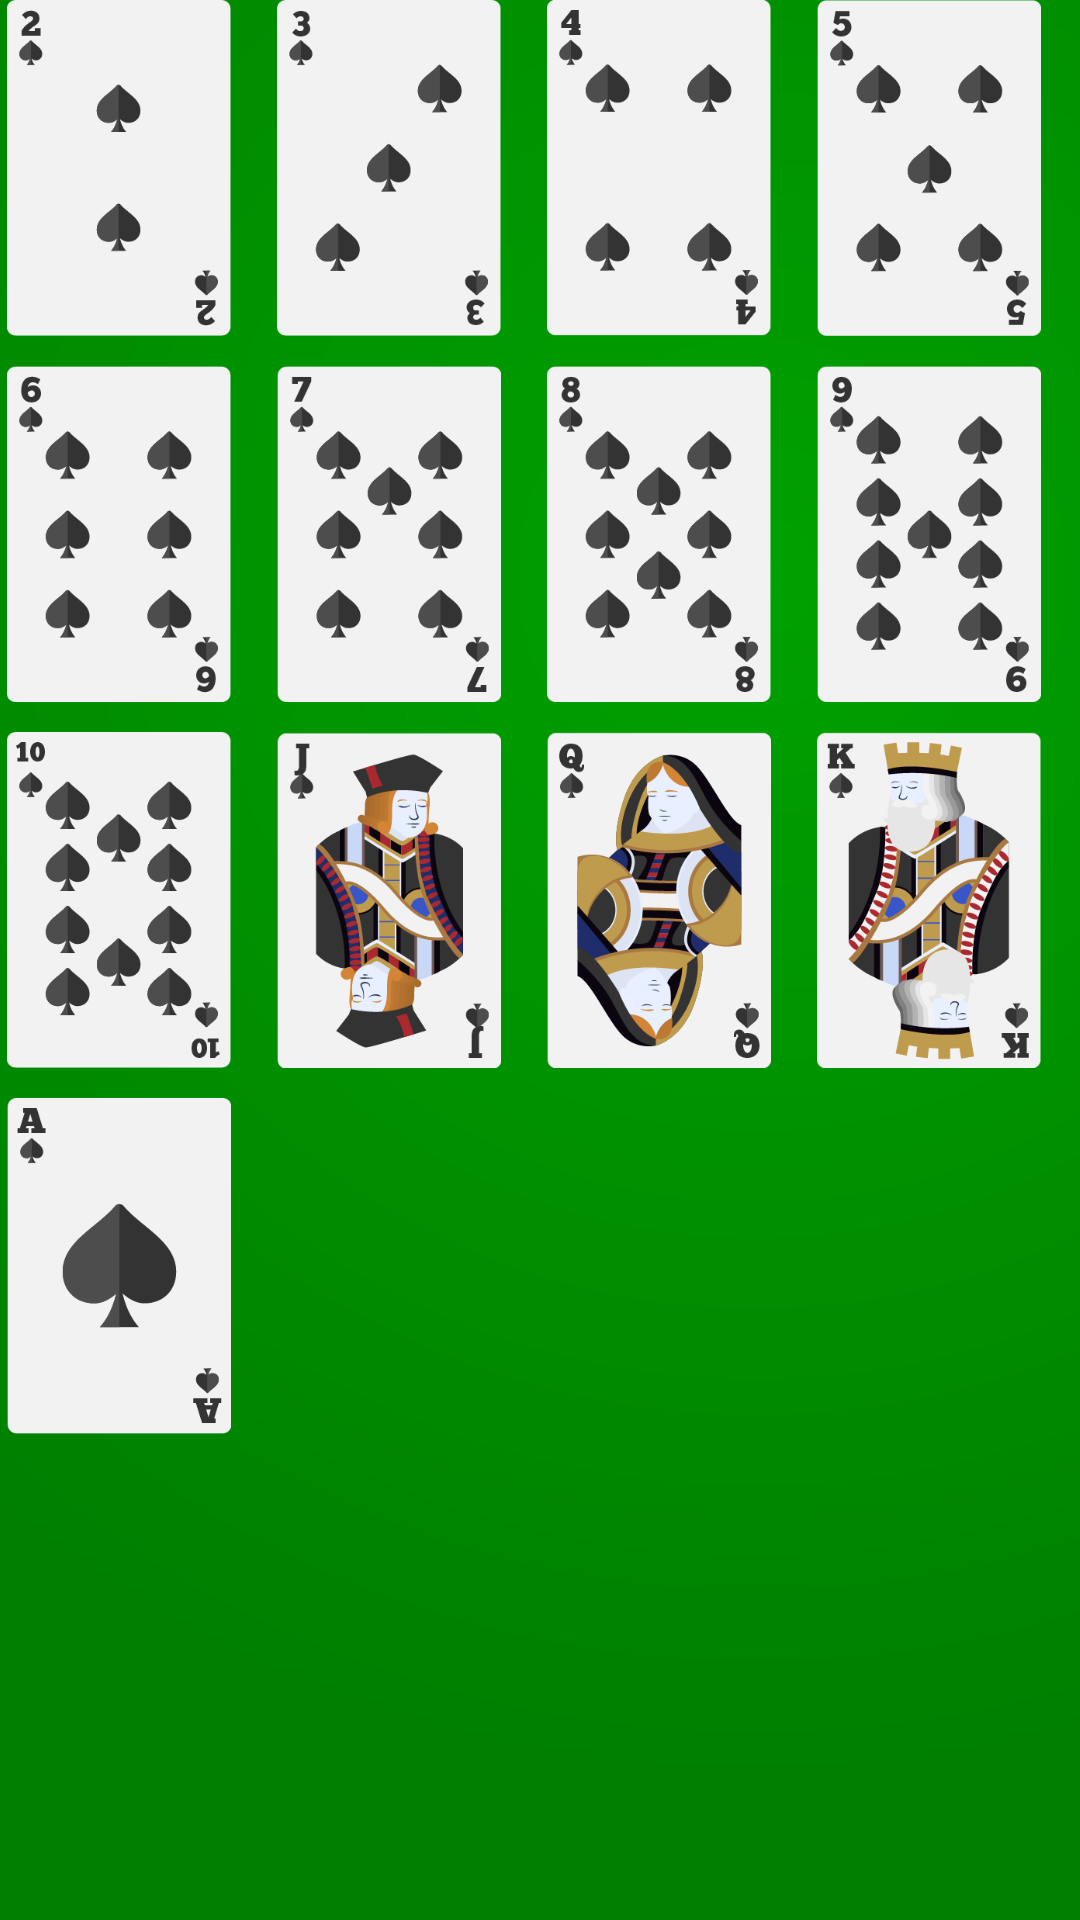

Screen size 1080x1920. Icon name, then its box in pixels as (x1, y1, x2, y2):
spades ace: (7, 1098, 231, 1434)
spades jack: (277, 733, 501, 1068)
spades king: (817, 732, 1041, 1068)
spades queen: (547, 732, 771, 1068)
